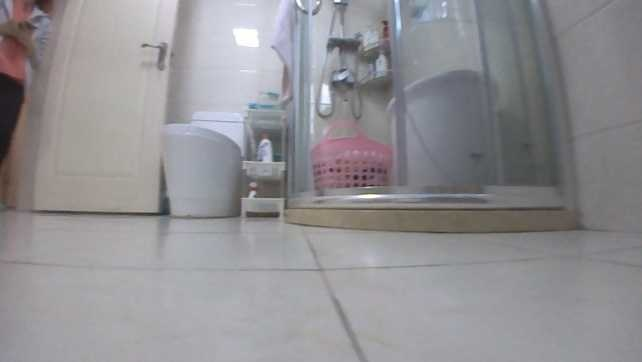door_anno: (15, 0, 180, 215)
toilet: (155, 107, 246, 217)
